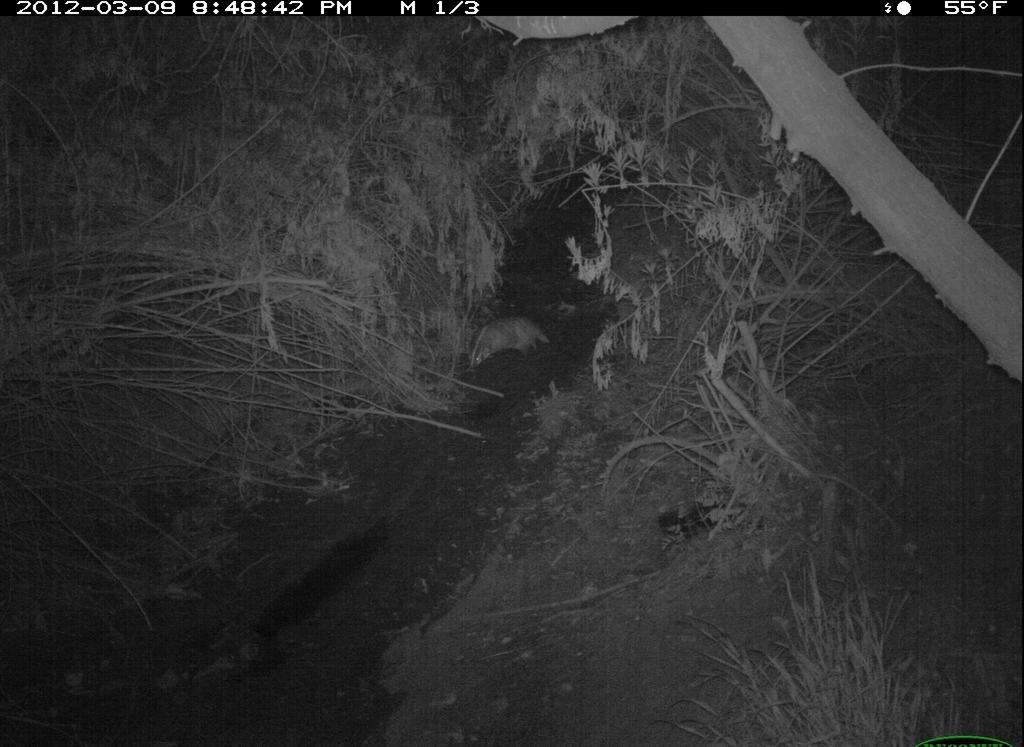badger: (464, 312, 557, 376)
